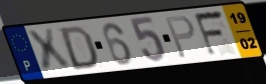5: (127, 15, 167, 65)
6: (102, 21, 135, 68)
D: (59, 24, 100, 72)
F: (192, 8, 226, 59)
P: (163, 14, 198, 61)
X: (24, 26, 74, 75)
